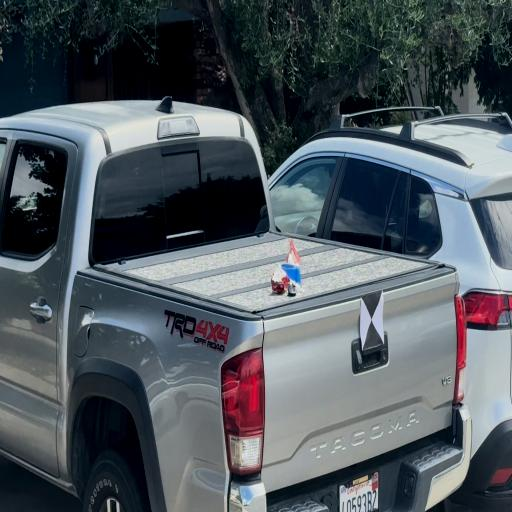target: (362, 290, 385, 348)
